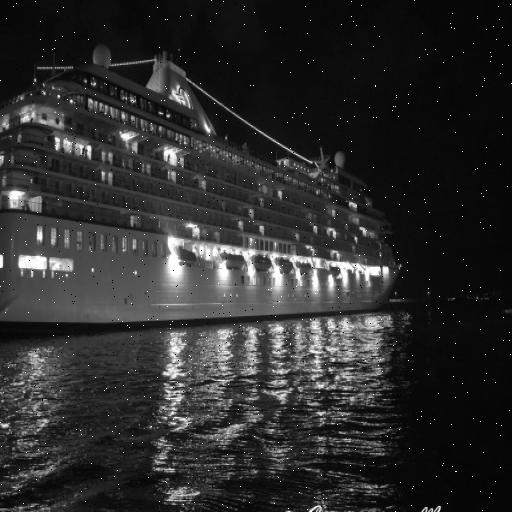cruises: (1, 37, 409, 341)
